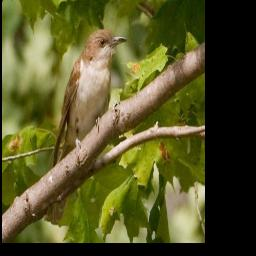Cuckoo: (43, 25, 128, 228)
